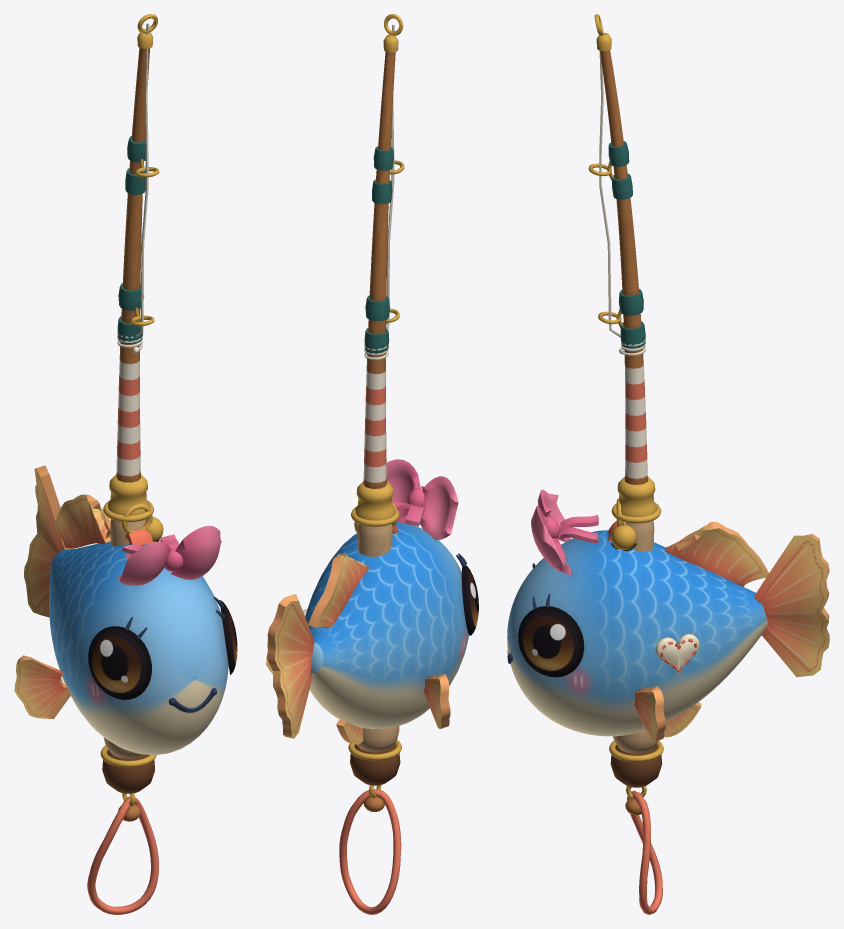
Rendered from wand.glb.
The picture shows the model from 3 angles, left to right: view 1: azimuth 30°, elevation 25°; view 2: azimuth 150°, elevation 25°; view 3: azimuth 270°, elevation 25°; orthographic projection. The views are drawn at different scales.
Visible parts, largest first — view 1: WandFish, WandRod; view 2: WandFish, WandRod; view 3: WandFish, WandRod.
Boxes of the visible parts, left/top/right/bottom form: WandFish: left=14, top=465, right=237, bottom=755; WandRod: left=87, top=14, right=159, bottom=914; WandFish: left=266, top=459, right=478, bottom=744; WandRod: left=339, top=14, right=404, bottom=914; WandFish: left=507, top=489, right=829, bottom=741; WandRod: left=588, top=14, right=663, bottom=914.
Bounding box in the file's own units: 0.0523 × 0.2302 × 0.0751.
Materials: 8 (3 with a texture image).
